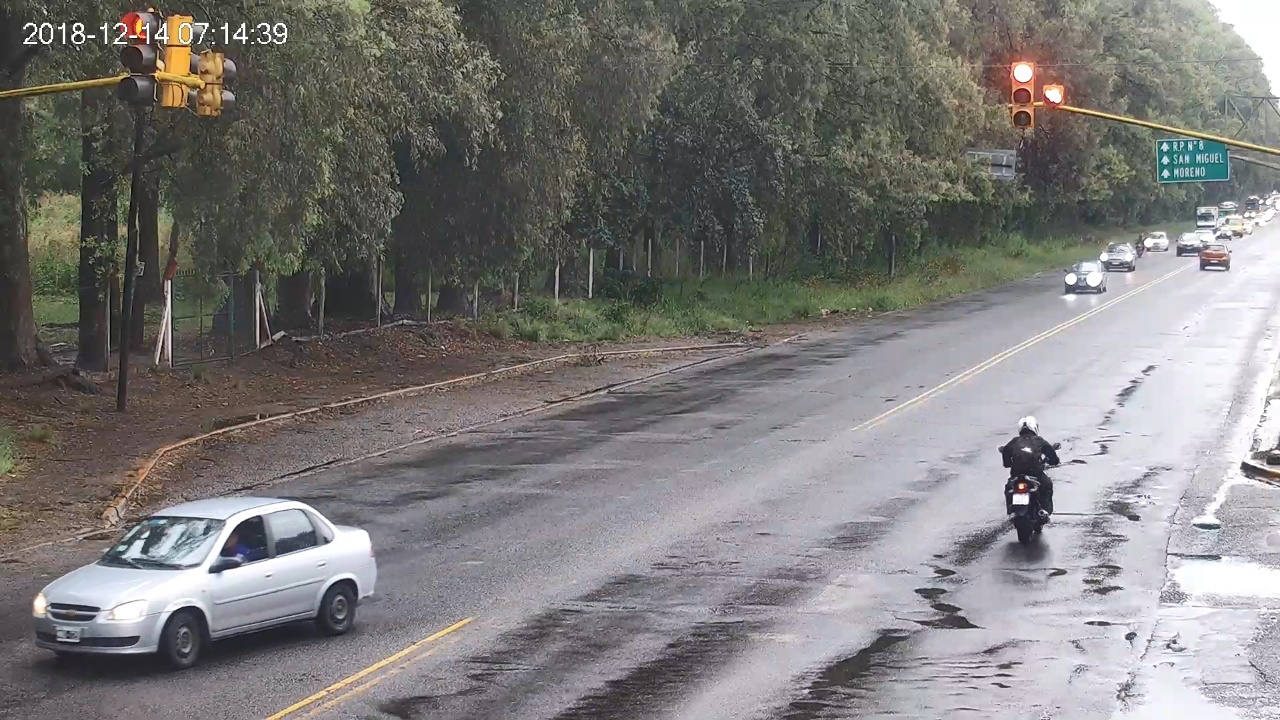front car: (34, 496, 378, 667)
motorcycle: (998, 441, 1061, 544)
traffic light: (1012, 61, 1034, 127)
